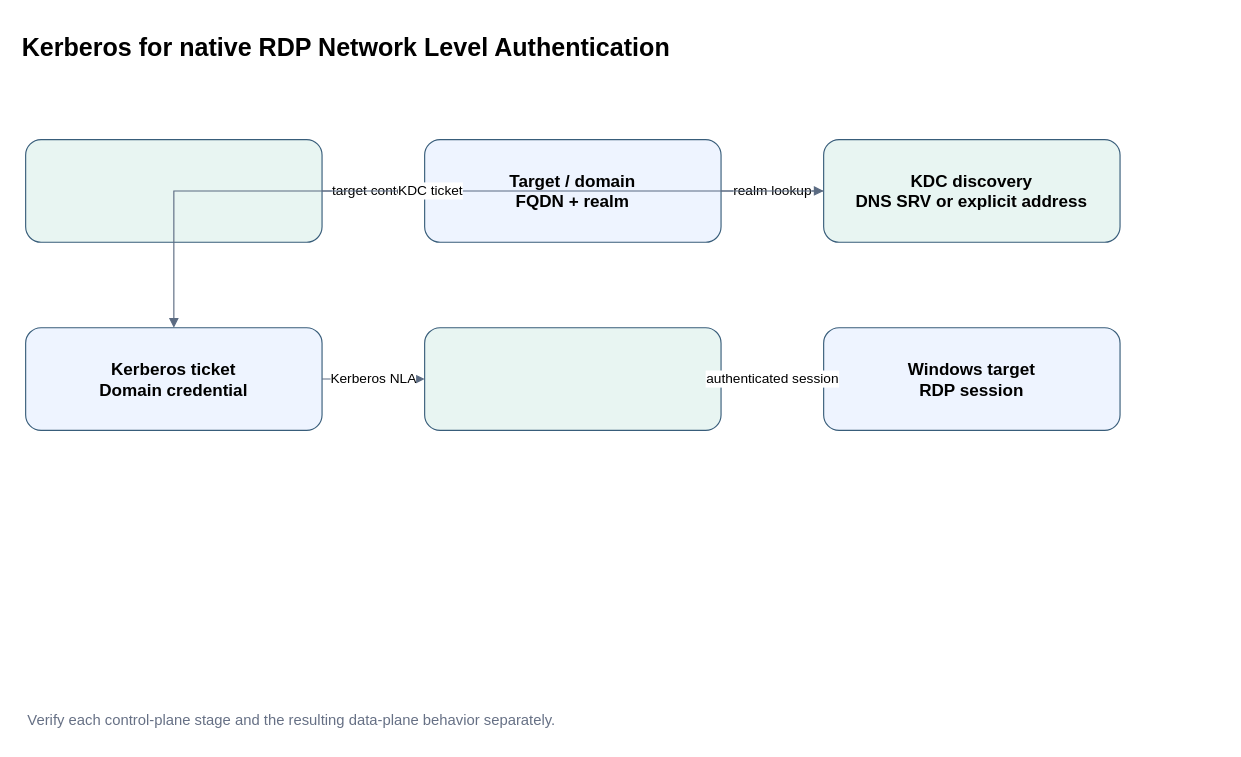
The diagram is 1241 pixels wide and 757 high, and some of its shapes have lost their labels. Each missing label, with the box of its shape:
FortiPAM secret RDP enabled + NLA: (25, 139, 322, 242)
Native RDP launcher CredSSP / NLA: (424, 327, 721, 430)
